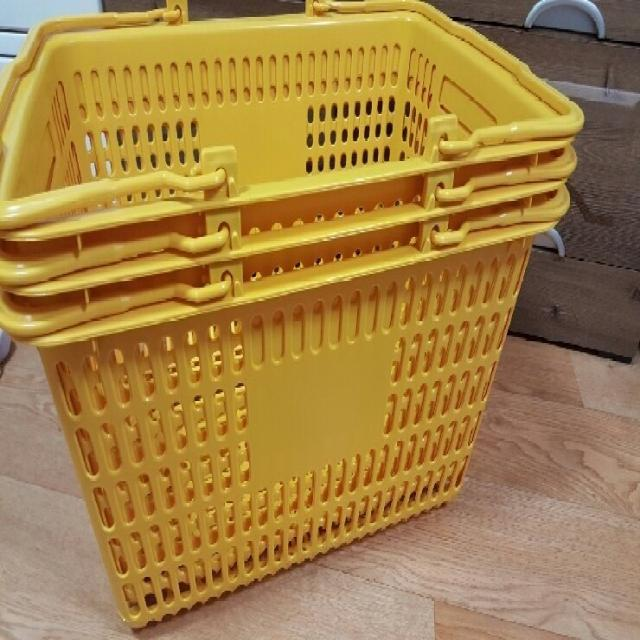basket: (0, 3, 584, 628)
